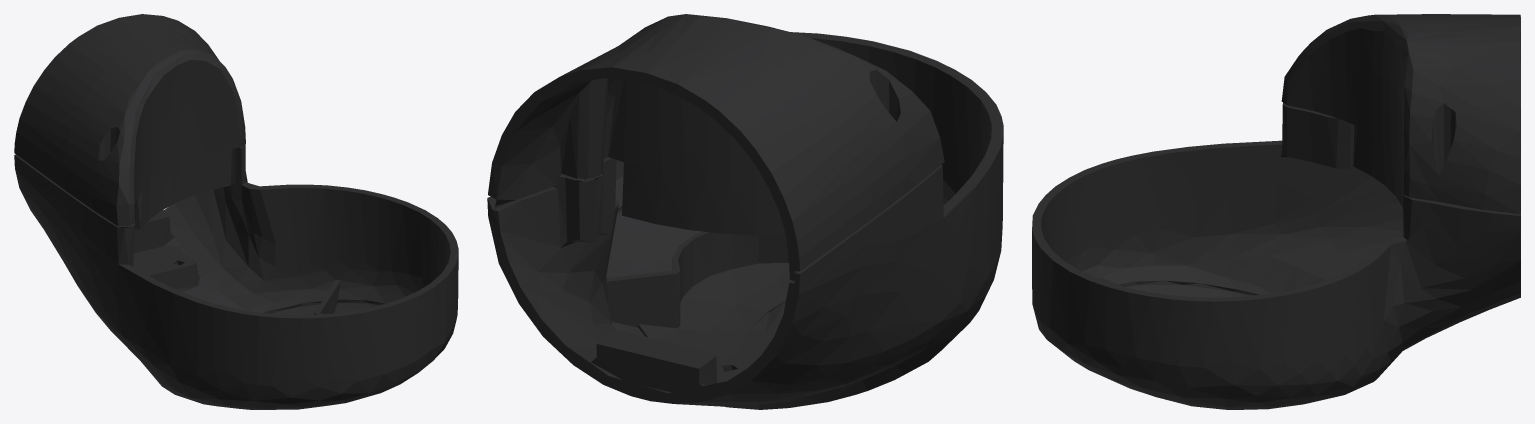
File: arm_4.dae
The picture shows the model from 3 angles, left to right: view 1: azimuth 30°, elevation 25°; view 2: azimuth 150°, elevation 25°; view 3: azimuth 270°, elevation 25°; orthographic projection. The views are drawn at different scales.
Parts seen in each view (by area): view 1: node; view 2: node; view 3: node.
Part boxes in pixels (box(x1,y1,x2,y2)): node: box(14, 14, 458, 409); node: box(487, 14, 1003, 409); node: box(1032, 14, 1520, 409).
Size of the model in its own units: 0.1249 by 0.1172 by 0.1582.
1 material, 1 textured.
